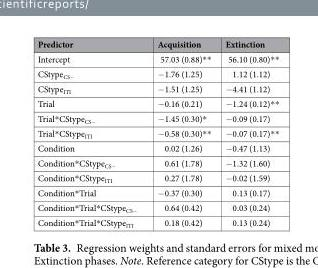table: (36, 37, 278, 228)
table column: (36, 37, 146, 228), (146, 37, 217, 228), (217, 37, 278, 228)
table column header: (36, 37, 278, 50)
table row: (36, 50, 278, 66), (36, 154, 278, 170), (36, 66, 278, 81), (36, 95, 278, 110), (36, 110, 278, 125), (36, 125, 278, 140), (36, 170, 278, 185), (36, 199, 278, 214), (36, 81, 278, 95), (36, 140, 278, 154), (36, 185, 278, 199), (36, 214, 278, 228), (36, 37, 278, 50)
